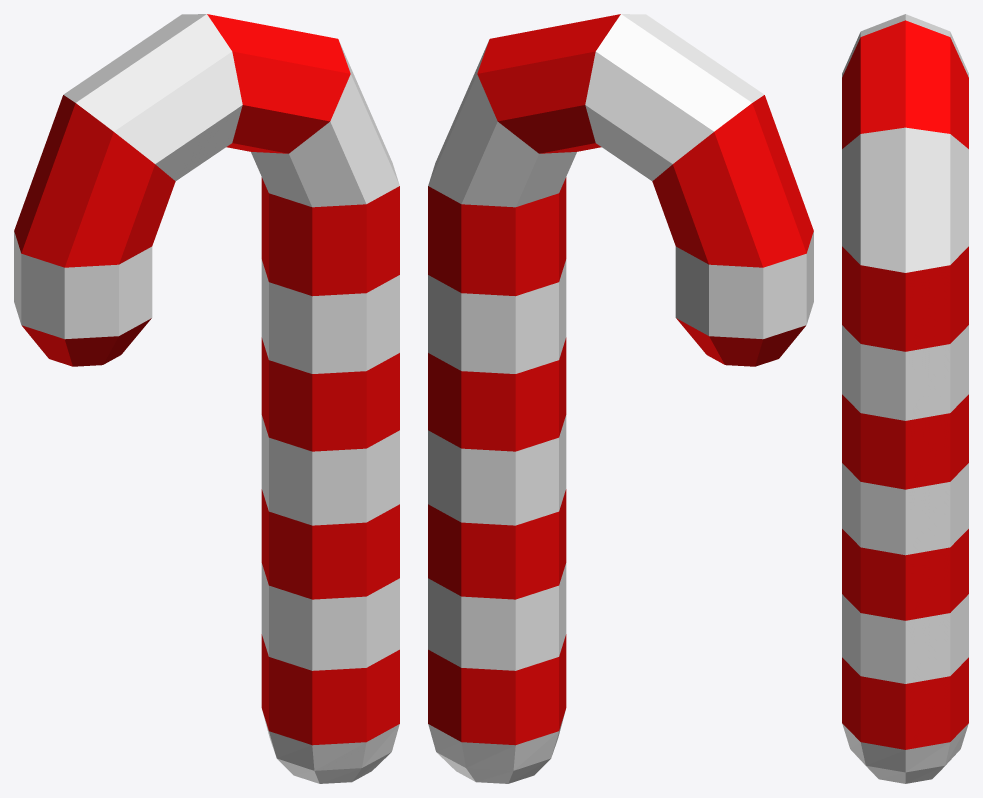
Rendered from candy-cane.obj.
The picture shows the model from 3 angles, left to right: view 1: azimuth 30°, elevation 25°; view 2: azimuth 150°, elevation 25°; view 3: azimuth 270°, elevation 25°; orthographic projection. The views are drawn at different scales.
Bounding box in the file's own units: 1.93 × 3.93 × 0.6442.
